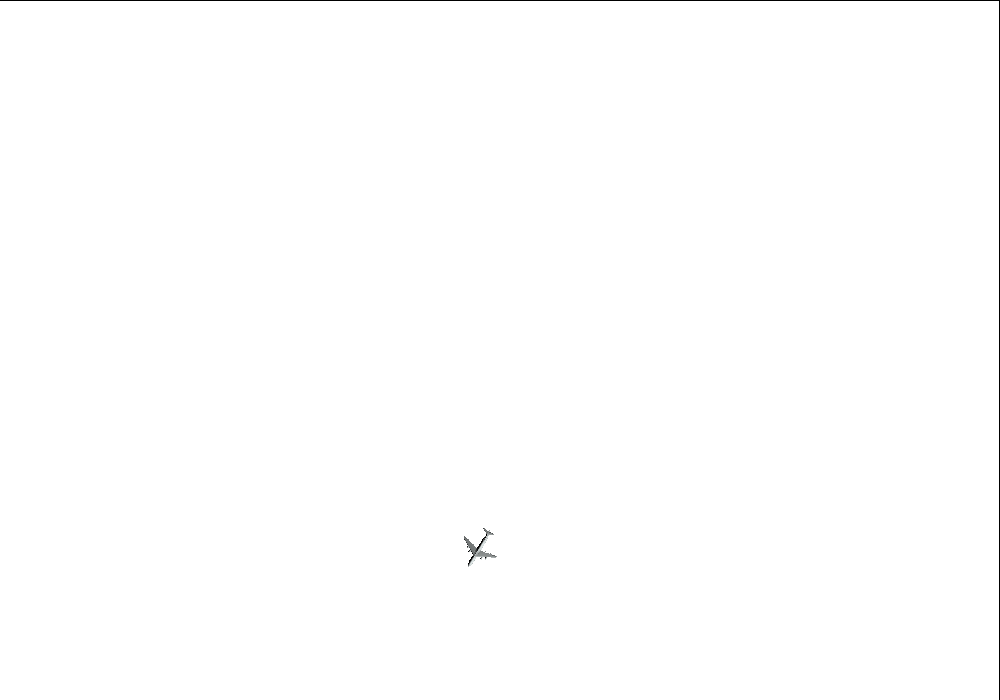plane: (450, 520, 507, 577)
